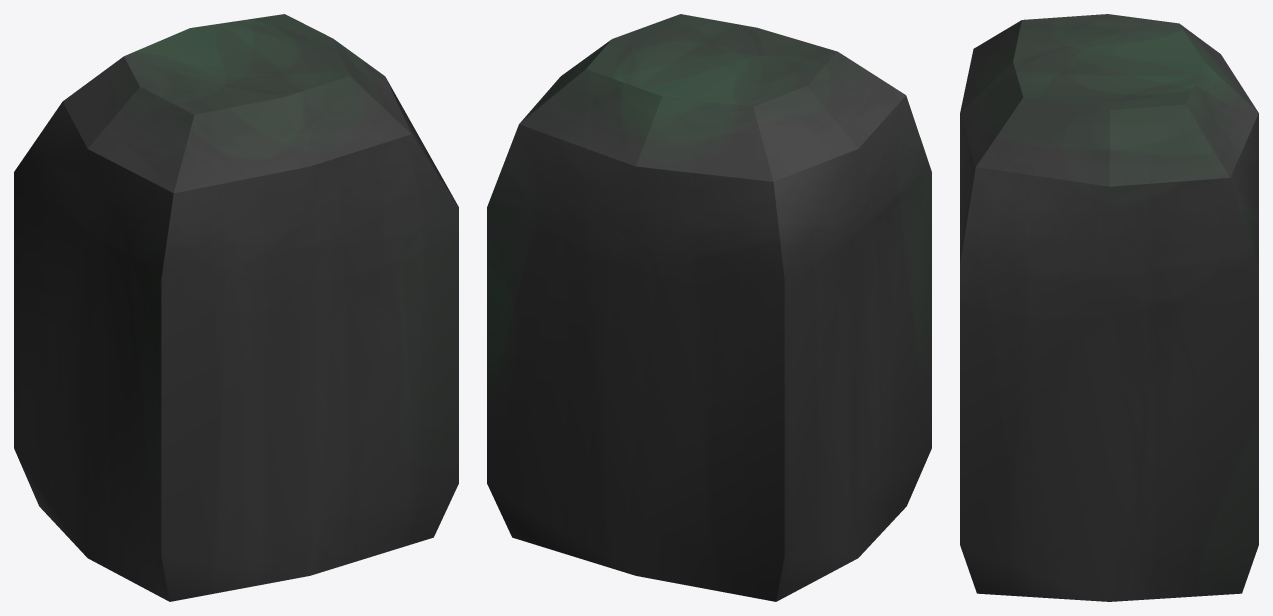
The model's file is Trash_one.FBX.
3 views of the same model, side by side, from view 1: azimuth 30°, elevation 25°; view 2: azimuth 150°, elevation 25°; view 3: azimuth 270°, elevation 25° (orthographic).
Parts seen in each view (by area): view 1: trash; view 2: trash; view 3: trash.
Part boxes in pixels (x1,y1,x2,y2): trash: [14, 14, 458, 601]; trash: [487, 14, 931, 601]; trash: [960, 14, 1258, 601].
Bounding box in the file's own units: 0.6785 × 0.5816 × 1.
